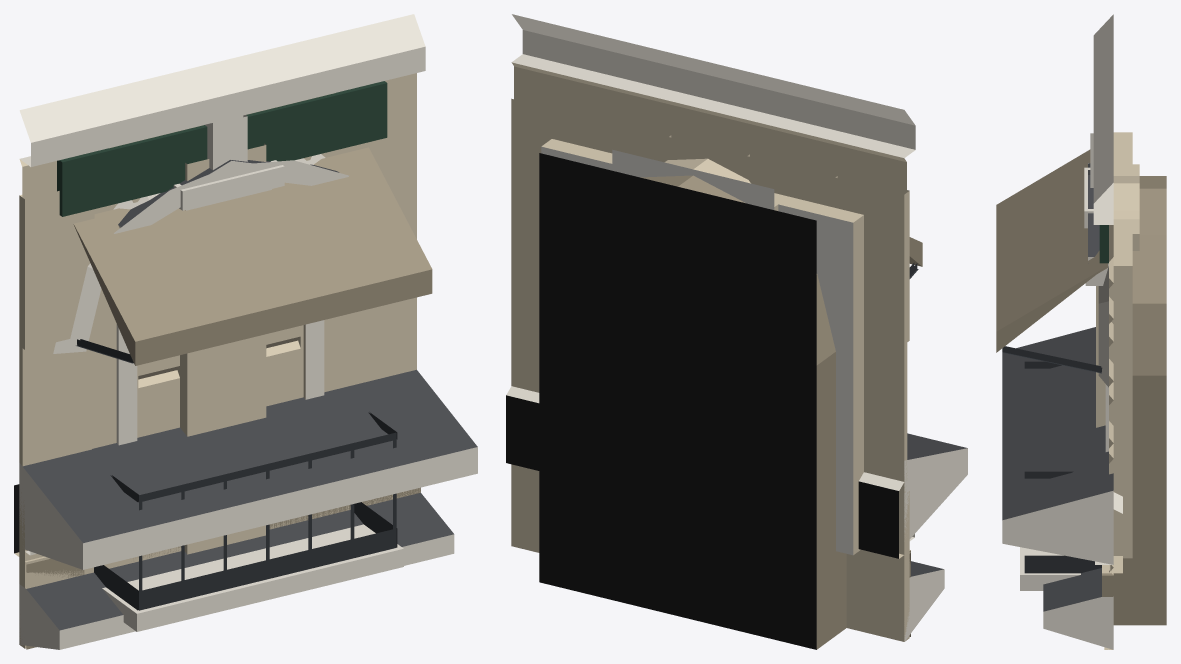
The model's file is classic.glb.
3 views of the same model, side by side, from view 1: azimuth 30°, elevation 25°; view 2: azimuth 150°, elevation 25°; view 3: azimuth 270°, elevation 25° (orthographic). The views are drawn at different scales.
Parts seen in each view (by area): view 1: classic__g_shop, classic__cap, classic__g_rustic, classic__win_balcony, classic__corner, classic__blank, classic__cap_attic, classic__pilaster, classic__g_gate, classic__win, classic__win_ped, classic__g_rustic2 (+1 smaller); view 2: classic__g_gate, classic__win, classic__g_rustic, classic__pilaster, classic__g_shop, classic__g_rustic2, classic__cap_attic, classic__cap, classic__corner, classic__win_balcony; view 3: classic__g_shop, classic__cap, classic__g_gate, classic__g_rustic, classic__cap_attic, classic__win_balcony, classic__g_rustic2, classic__pilaster, classic__win_ped, classic__blank, classic__win.
Boxes of the visible parts, x1,y1,x2,y2 form: classic__g_shop: (57,81,432,375); classic__cap: (19,369,477,569); classic__g_rustic: (19,14,425,649); classic__win_balcony: (94,334,403,631); classic__corner: (19,191,94,648); classic__blank: (20,107,416,447); classic__cap_attic: (14,484,454,649); classic__pilaster: (173,143,284,554); classic__g_gate: (22,73,420,648); classic__win: (25,320,324,648); classic__win_ped: (118,160,339,231); classic__g_rustic2: (21,74,416,345); classic__g_gate: (514,64,910,649); classic__win: (511,98,904,641); classic__g_rustic: (511,14,915,636); classic__pilaster: (511,99,904,640); classic__g_shop: (541,139,922,555); classic__g_rustic2: (512,63,906,207); classic__cap_attic: (506,386,944,641); classic__cap: (511,433,967,597); classic__corner: (835,176,909,641); classic__win_balcony: (512,470,898,640); classic__g_shop: (996,132,1132,574); classic__cap: (1002,327,1113,649); classic__g_gate: (1090,133,1166,625); classic__g_rustic: (1093,14,1139,575); classic__cap_attic: (1043,492,1122,649); classic__win_balcony: (1020,361,1101,590); classic__g_rustic2: (1109,176,1139,338); classic__pilaster: (1084,167,1105,427); classic__win_ped: (1088,163,1099,260); classic__blank: (1109,225,1113,572); classic__win: (1085,263,1112,649).
Bounding box in the file's own units: 3.4 × 4.4 × 1.45.
